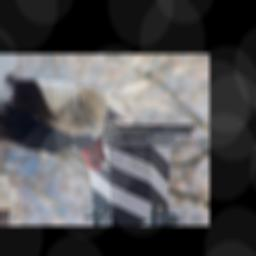Woodpecker: (0, 73, 125, 179)
